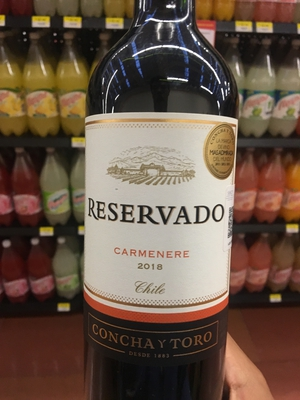reservado carmenere: (82, 6, 251, 400)
